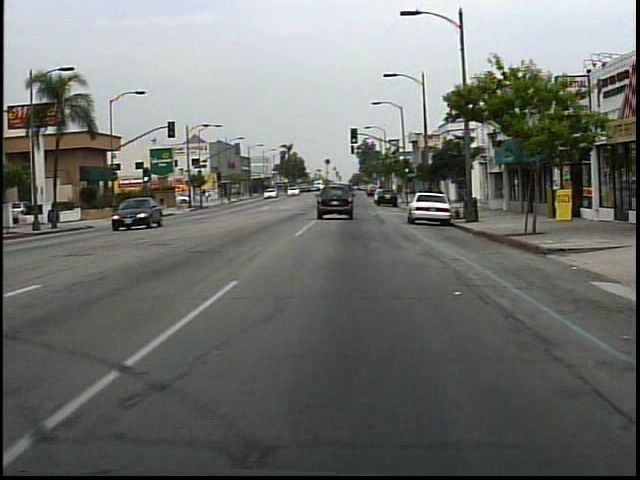person: (204, 188, 213, 206)
